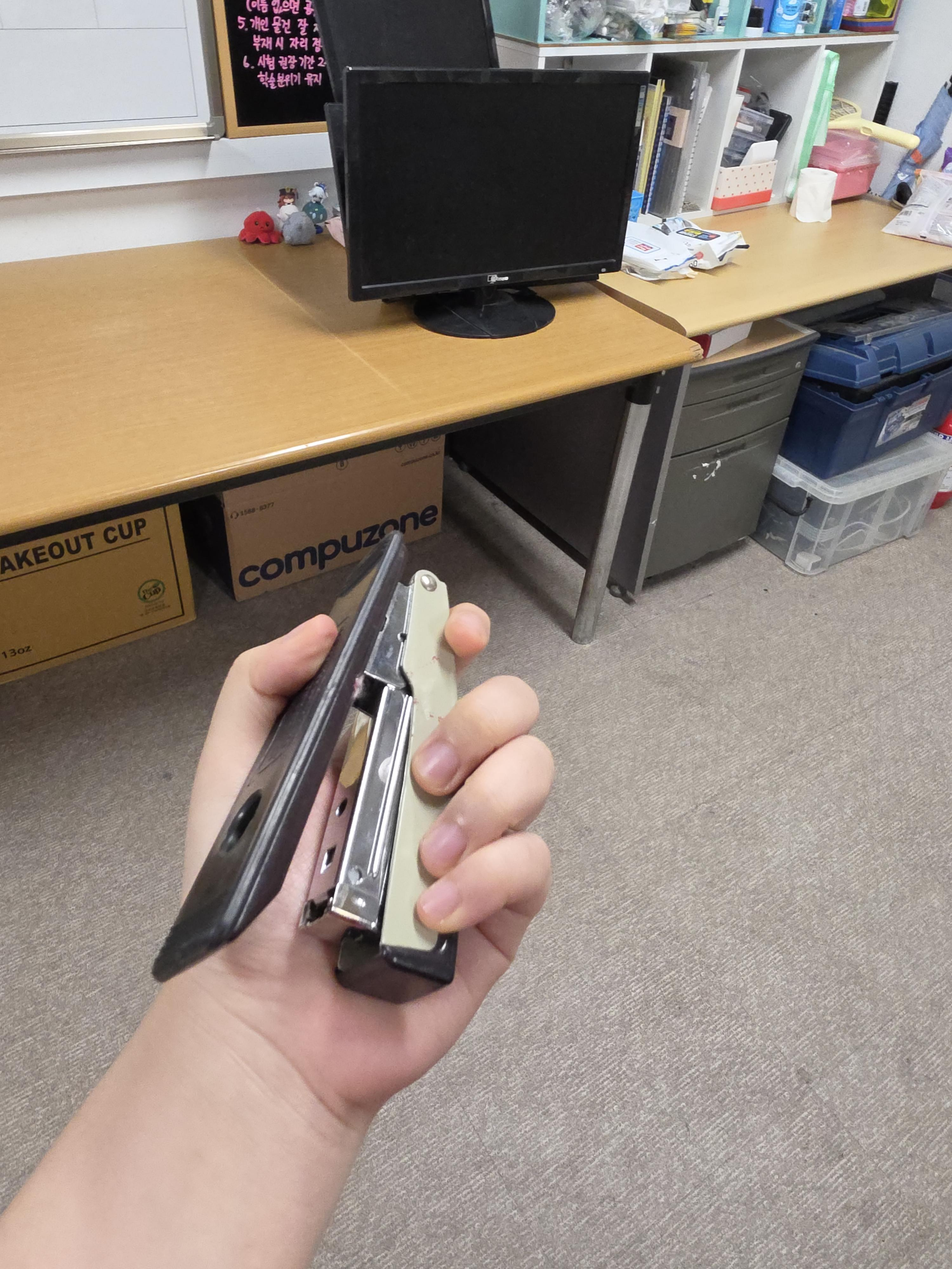stapler: (151, 530, 461, 1006)
tissue: (620, 216, 748, 282), (791, 167, 839, 223)
